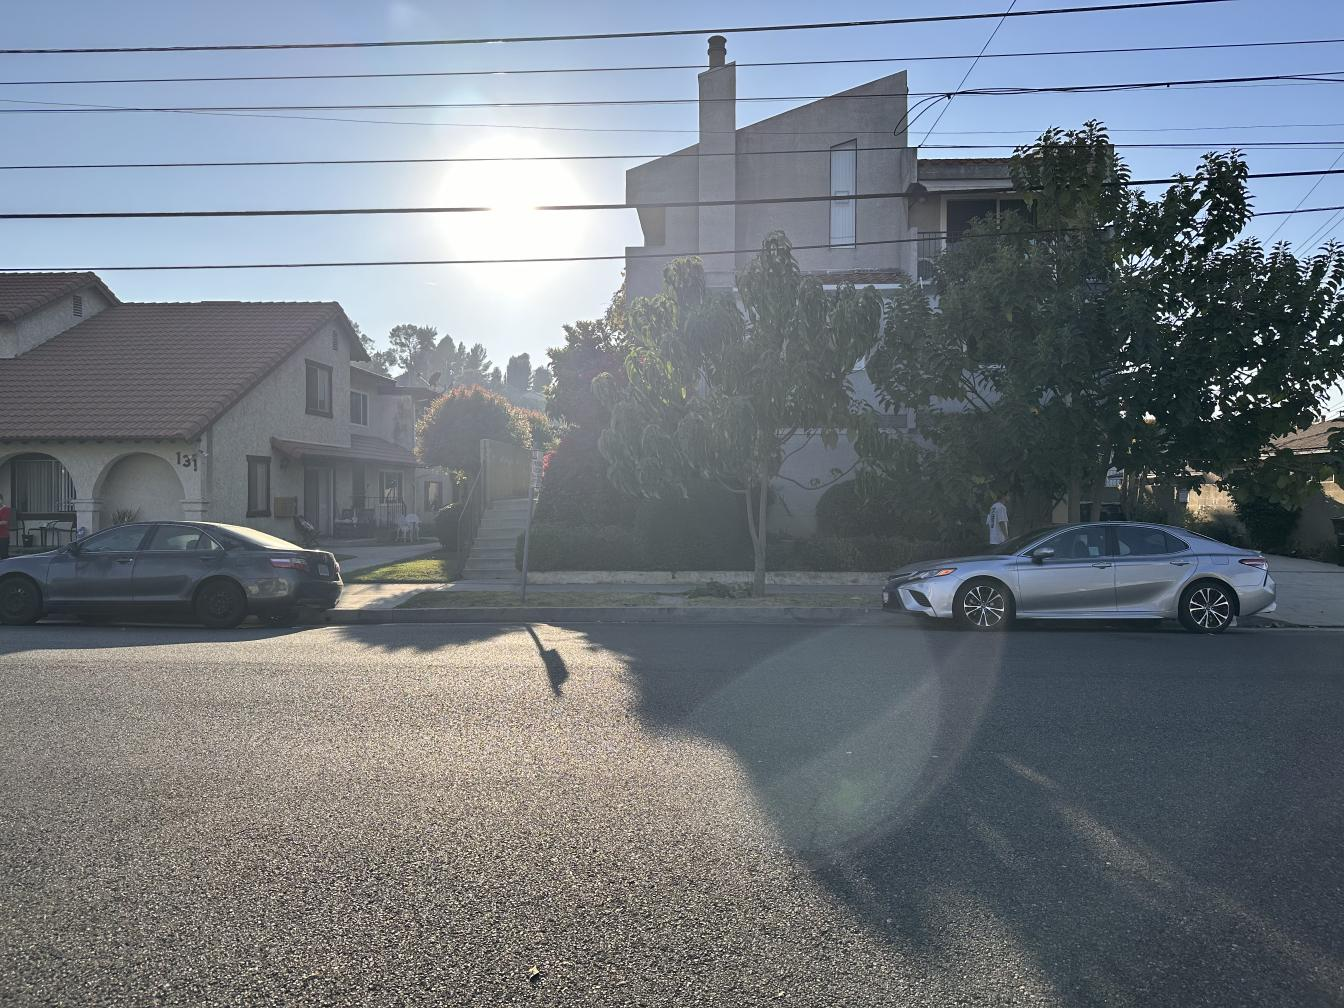curbs-laRr: (348, 604, 875, 627)
